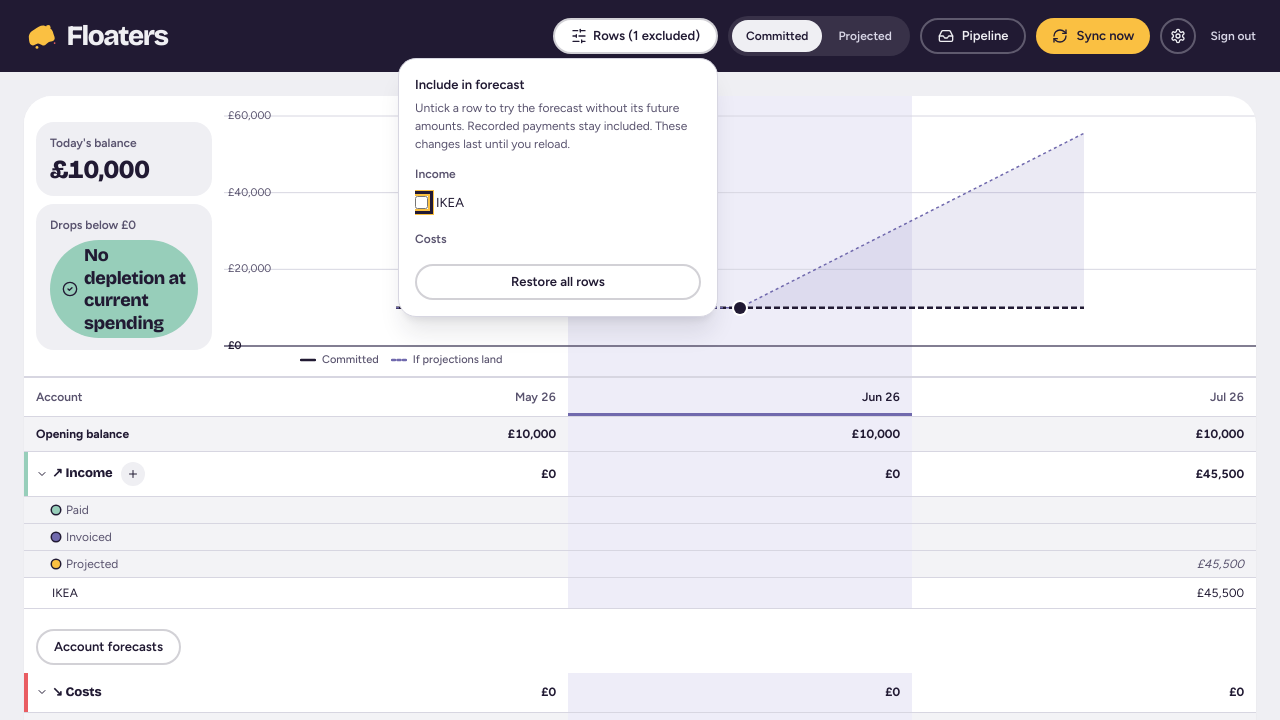
Test case: zero date and temporary forecast rows › excludes and restores a row through a temporary read without changing saved projections
The image size is (1280, 720).
Earlier steps of the test are not shown.
Expected: the button with aria-label "Choose forecast rows" shows "1 excluded", 553,18 -> 718,54
What coordinates should you click on to do the following:
click the button "Restore all rows"
I would click on:
 (558, 282)
Its box is 415,264 -> 701,300.
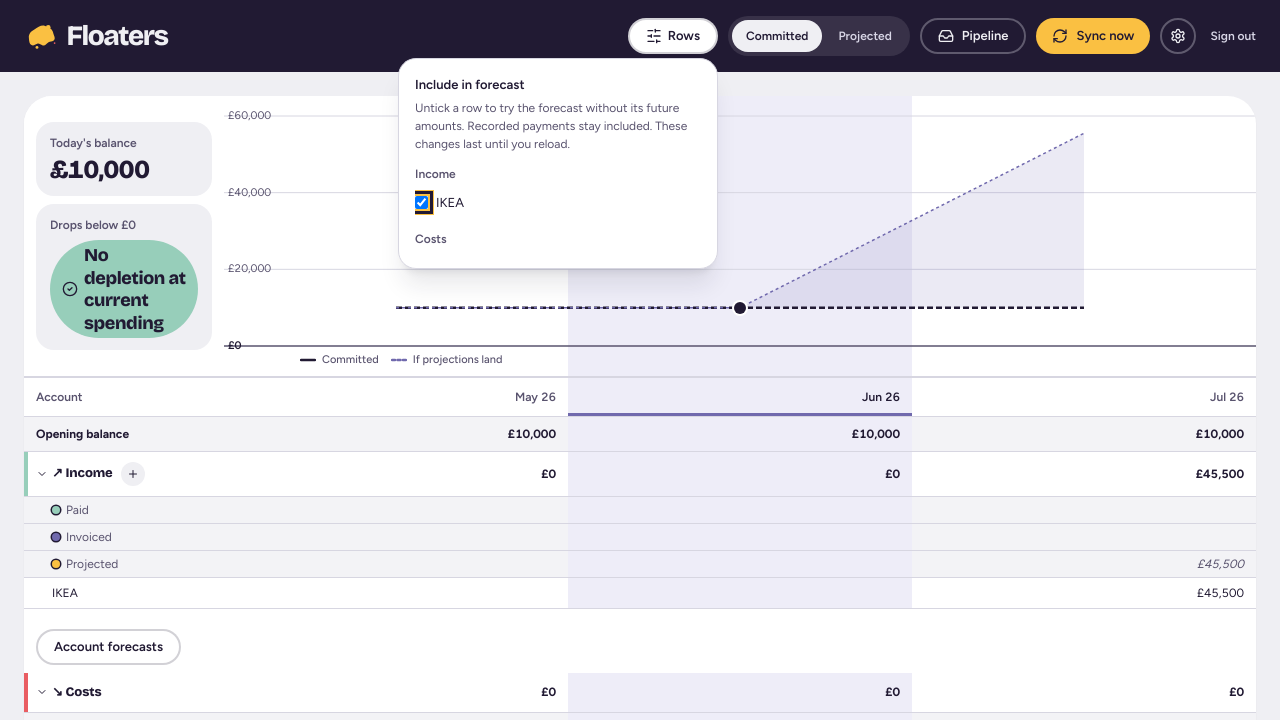
Now the button with aria-label "Choose forecast rows" no longer shows "excluded", box 628,18 -> 718,54
